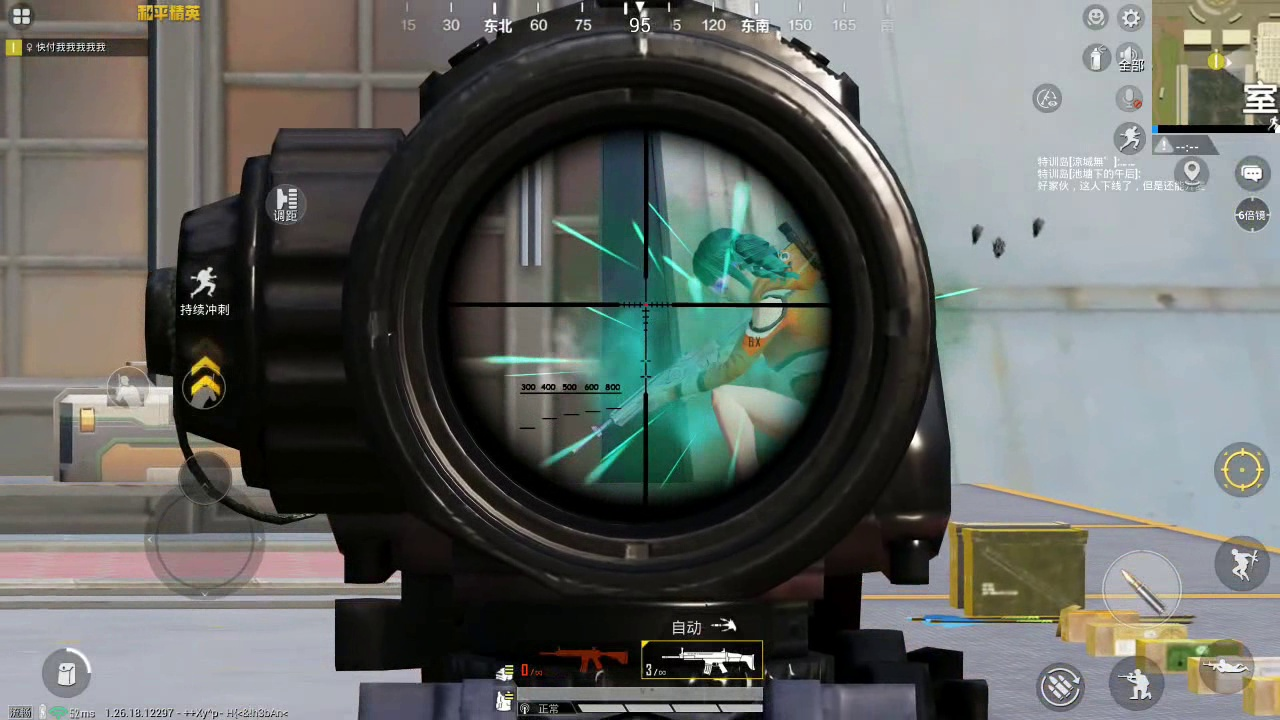enemy: (689, 221, 829, 467)
